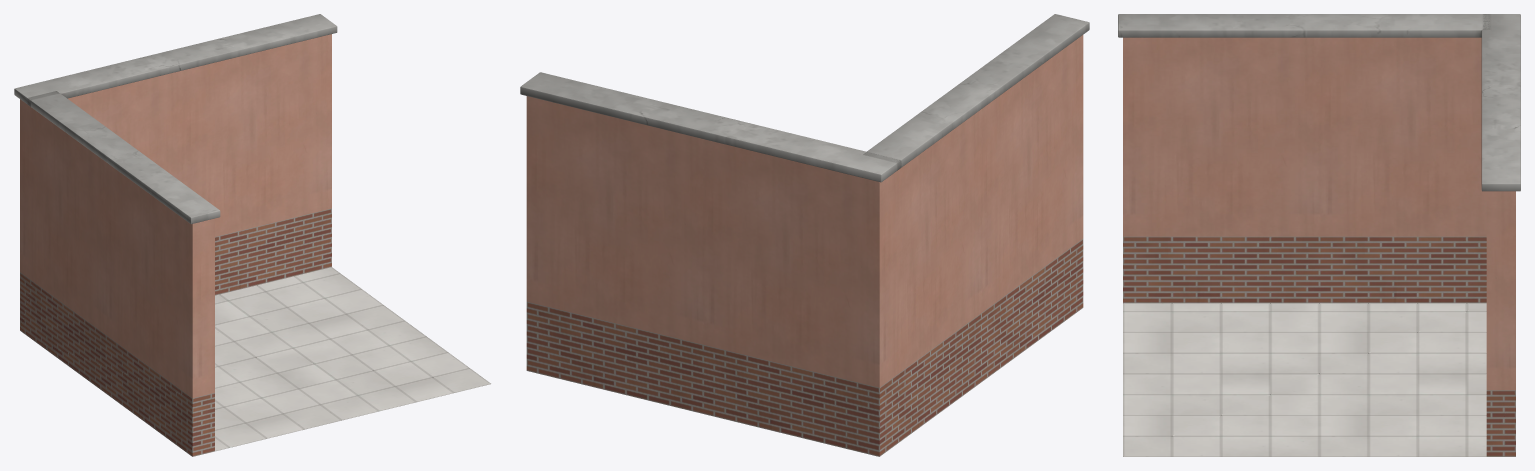
The model's file is tile_probe.glb.
3 renders of one model, left to right at view 1: azimuth 30°, elevation 25°; view 2: azimuth 150°, elevation 25°; view 3: azimuth 270°, elevation 25°, orthographic. The views are drawn at different scales.
Parts seen in each view (by area): view 1: walls; view 2: walls; view 3: walls.
Part boxes in pixels (x1,y1,x2,y2): walls: [14, 14, 490, 456]; walls: [520, 14, 1089, 456]; walls: [1118, 14, 1520, 456].
Size of the model in its own units: 4.1 by 3.09 by 4.1.
Materials: 4 (4 with a texture image).
